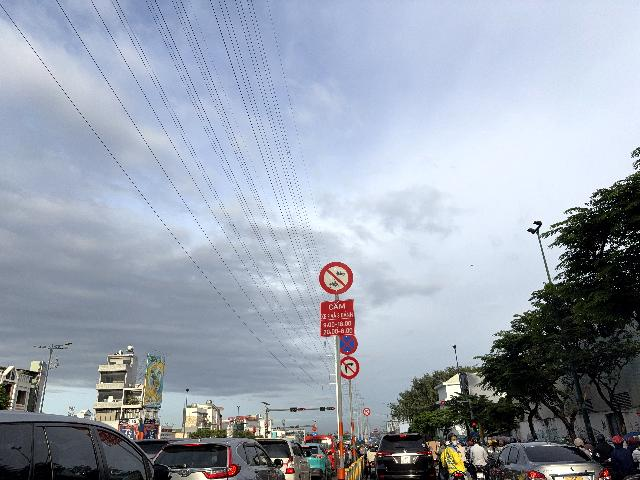cam-dung-va-do-xe: (339, 335, 358, 355)
cam-re-phai: (340, 356, 360, 379)
cam-xe-2-banh-3-banh: (319, 262, 354, 294)
